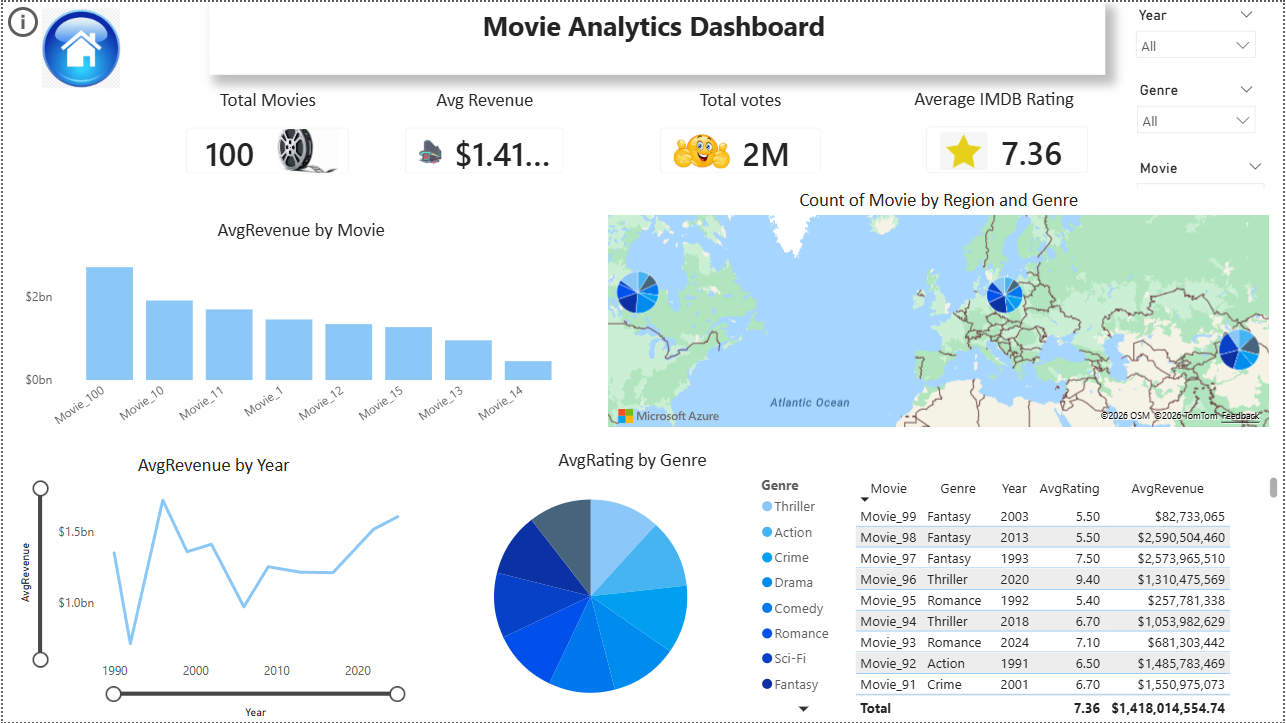

What the dashboard file says about the page in this screenshot:
{"tool":"powerbi","page":{"name":"Revenue Trends","canvas":[1280,720],"ordinal":1},"visuals":[{"type":"cardVisual","title":"Total Movies","fields":{"Data":["Sheet1.TotalMovies"]},"box":[166.2,86.2,197.5,102.5],"z":0},{"type":"cardVisual","title":"Average IMDB Rating ","fields":{"Data":["Sheet1.AvgRating"]},"box":[906.2,85,196.2,103.8],"z":1000},{"type":"cardVisual","title":"Total votes","fields":{"Data":["Sheet1.MaxVotes"]},"box":[640,86.2,195,102.5],"z":2000},{"type":"cardVisual","title":"Avg Revenue","fields":{"Data":["Sheet1.AvgRevenue"]},"box":[385,86.2,193.8,102.5],"z":3000},{"type":"lineChart","fields":{"Category":["Sheet1.Year"],"Y":["Sheet1.AvgRevenue"]},"box":[8.8,451.2,403.8,268.8],"z":4000},{"type":"pieChart","fields":{"Category":["Sheet1.Genre"],"Y":["Sheet1.AvgRating"]},"box":[412.5,446.2,433.8,273.8],"z":5000},{"type":"clusteredColumnChart","fields":{"Y":["Sheet1.AvgRevenue"],"Category":["Sheet1.Movie"]},"box":[17.5,216.2,561.2,230],"z":6000},{"type":"tableEx","fields":{"Values":["Sheet1.Movie","Sheet1.Genre","Sheet1.Year","Sheet1.AvgRating","Sheet1.AvgRevenue"]},"box":[846.2,470,433.8,250],"z":7000},{"type":"slicer","fields":{"Values":["Sheet1.Year"]},"box":[1122.5,0,140,68.8],"z":8000},{"type":"slicer","fields":{"Values":["Sheet1.Genre"]},"box":[1123.8,75,138.8,61.2],"z":9000},{"type":"slicer","fields":{"Values":["Sheet1.Movie"]},"box":[1123.8,152.5,147.5,63.8],"z":10000},{"type":"textbox","box":[206.2,0,896.2,72.5],"z":11000},{"type":"azureMap","fields":{"Series":["Sheet1.Genre"],"Size":["Count(Sheet1.Movie)"],"Category":["Sheet1.Region"]},"box":[600,186.2,671.2,243.8],"z":12000},{"type":"actionButton","box":[0,0,100,40],"z":13000},{"type":"image","box":[30,6.2,96.2,80],"z":14000}]}

Visuals, with their boxes in screenshot pixels (x1, y1, x2, y2), scaled from the page's 1280x720 canvas onto the 1286x723 screenshot:
"Total Movies" cardVisual: (left=167, top=87, right=365, bottom=189)
"Average IMDB Rating " cardVisual: (left=910, top=85, right=1108, bottom=190)
"Total votes" cardVisual: (left=643, top=87, right=839, bottom=189)
"Avg Revenue" cardVisual: (left=387, top=87, right=582, bottom=189)
lineChart - Sheet1.Year x Sheet1.AvgRevenue: (left=9, top=453, right=415, bottom=722)
pieChart - Sheet1.Genre x Sheet1.AvgRating: (left=414, top=448, right=850, bottom=722)
clusteredColumnChart - Sheet1.AvgRevenue x Sheet1.Movie: (left=18, top=217, right=581, bottom=448)
tableEx - Sheet1.Movie x Sheet1.Genre: (left=850, top=472, right=1285, bottom=722)
slicer - Sheet1.Year: (left=1128, top=0, right=1268, bottom=69)
slicer - Sheet1.Genre: (left=1129, top=75, right=1269, bottom=137)
slicer - Sheet1.Movie: (left=1129, top=153, right=1277, bottom=217)
textbox: (left=207, top=0, right=1108, bottom=73)
azureMap - Sheet1.Genre x Count(Sheet1.Movie): (left=603, top=187, right=1277, bottom=432)
actionButton: (left=0, top=0, right=100, bottom=40)
image: (left=30, top=6, right=127, bottom=87)
